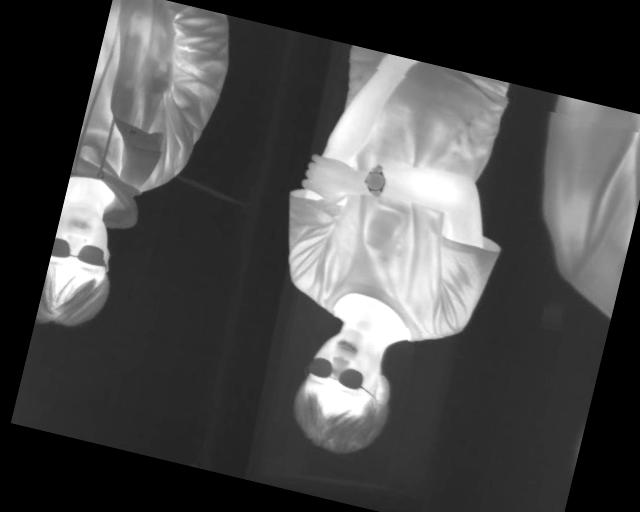face: (284, 319, 403, 462), (35, 203, 127, 339)
